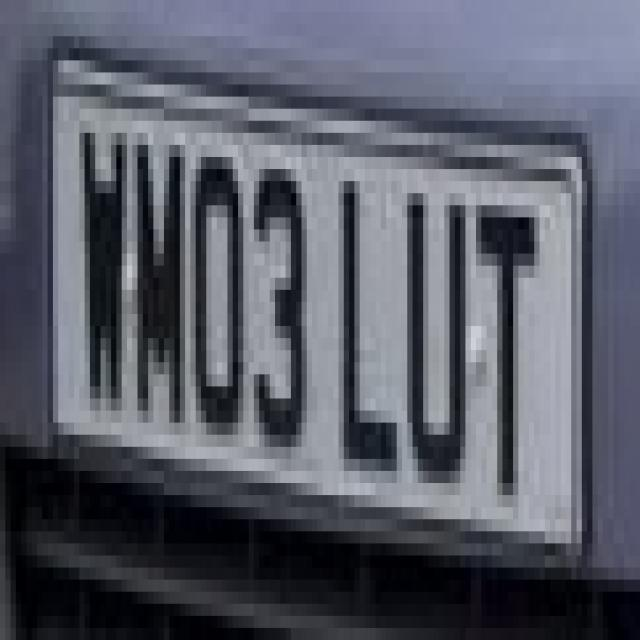licenseplate: (31, 20, 612, 612)
